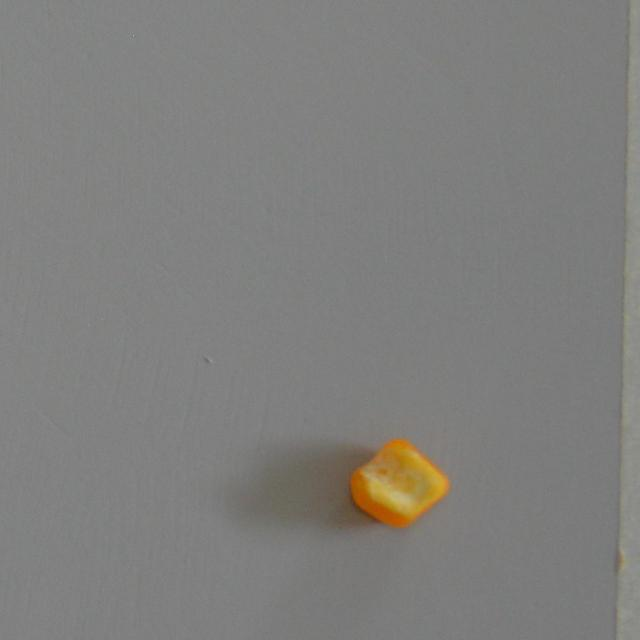no_desgerminado: (340, 432, 450, 530)
